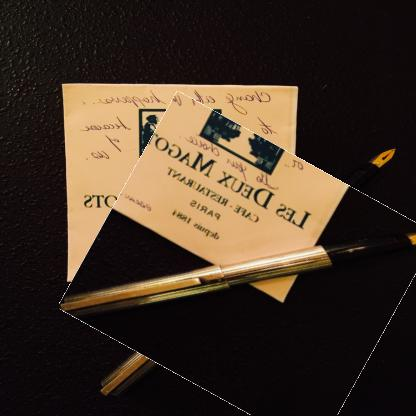Pen: (78, 119, 415, 416)
